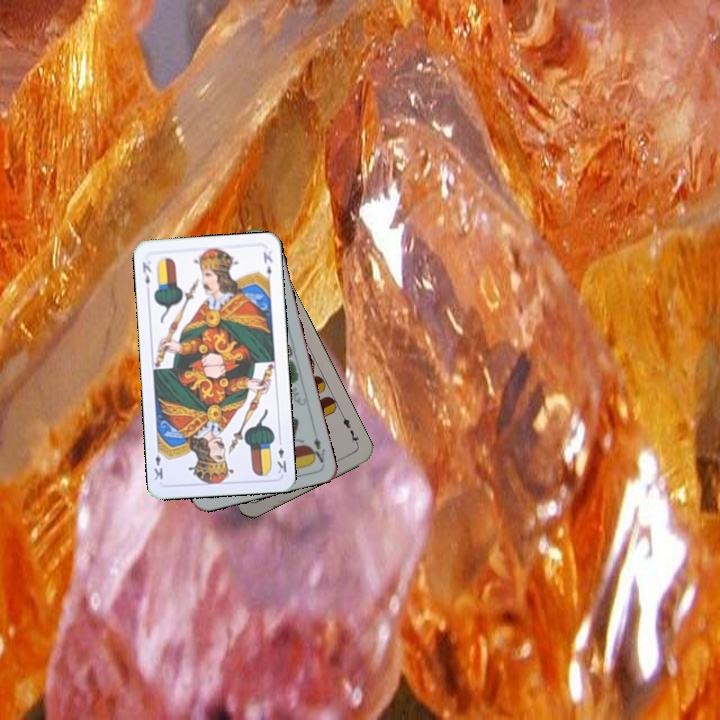E7: (338, 410, 361, 448)
EA: (307, 433, 328, 465)
EK: (273, 435, 289, 476), (138, 258, 154, 287)
